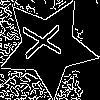X: (23, 21, 71, 60)
